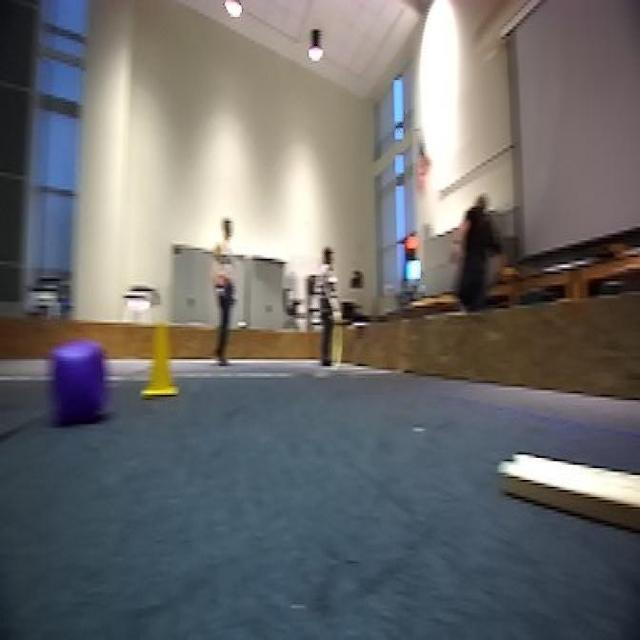frc_cone: (140, 318, 179, 402)
frc_cube: (50, 339, 105, 420)
